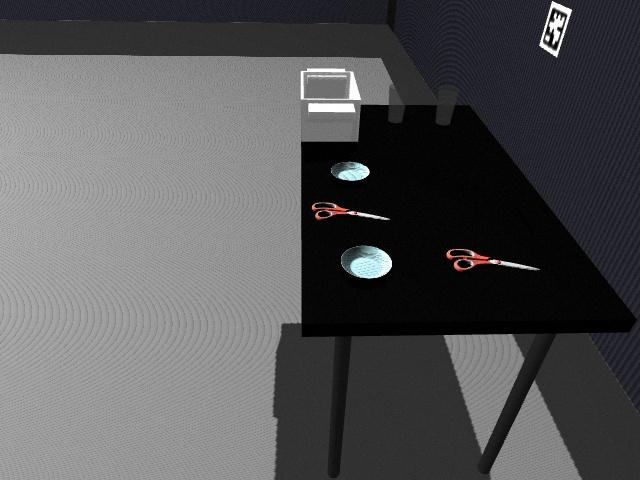cup: (435, 85, 459, 126), (386, 81, 404, 126)
plate: (340, 244, 394, 280), (329, 161, 371, 182), (349, 245, 382, 262)
scissors: (446, 247, 541, 274), (312, 202, 388, 223)
